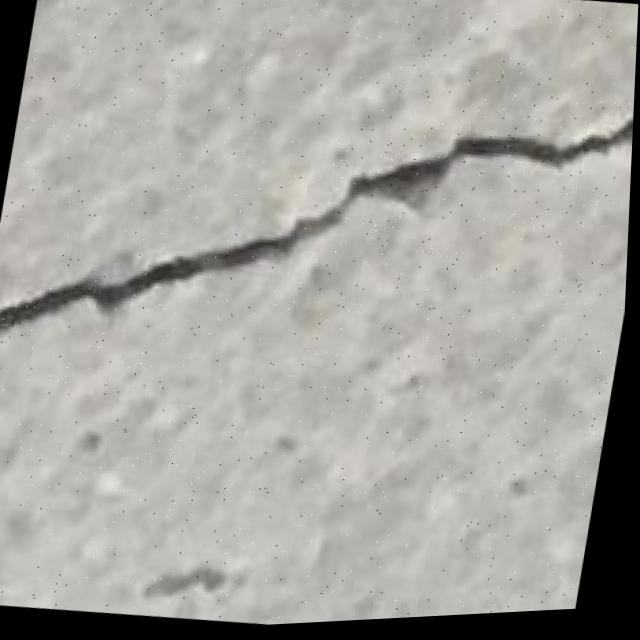Crack: (0, 31, 638, 423)
